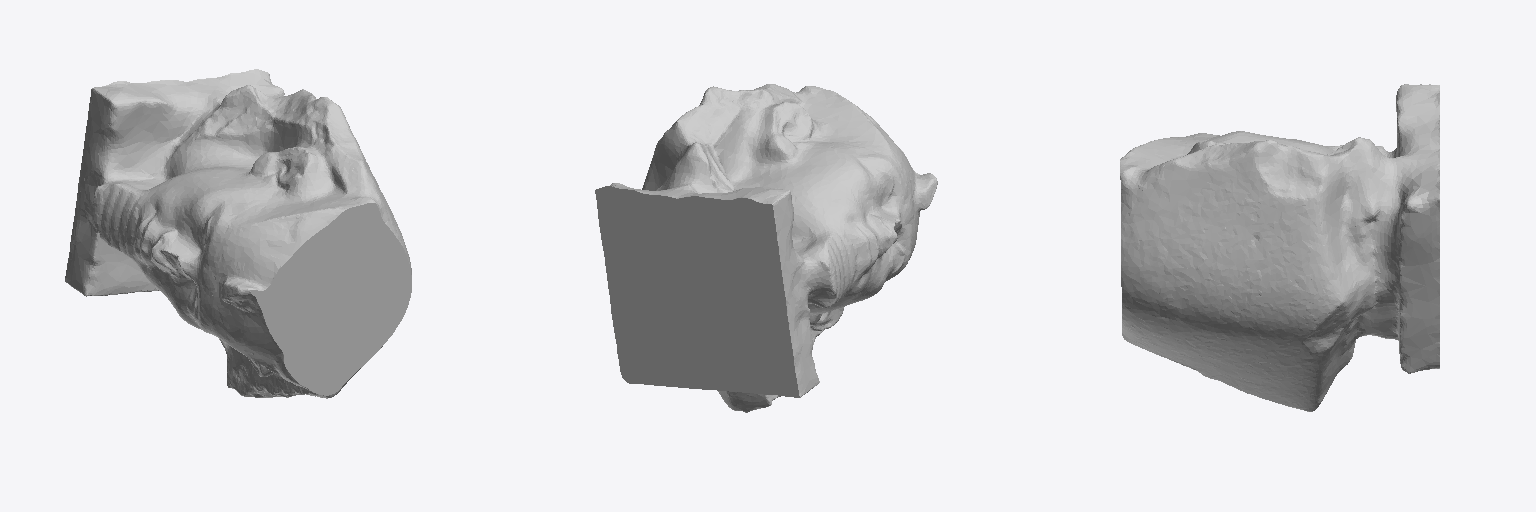
Rendered from 01amenemhat3.obj.
3 views of the same model, side by side, from view 1: azimuth 30°, elevation 25°; view 2: azimuth 150°, elevation 25°; view 3: azimuth 270°, elevation 25° (orthographic).
Visible parts, largest first — view 1: sculpt; view 2: sculpt; view 3: sculpt.
Part boxes in pixels (left/top/right/bottom): sculpt: left=65, top=69, right=411, bottom=398; sculpt: left=595, top=84, right=937, bottom=412; sculpt: left=1120, top=84, right=1439, bottom=411.
Bounding box in the file's own units: 18.33 × 22.19 × 21.8.